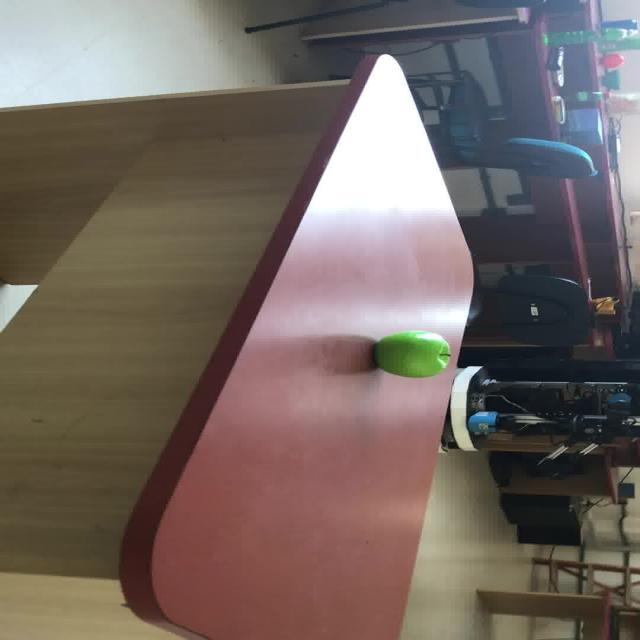apple: (372, 330, 451, 378)
